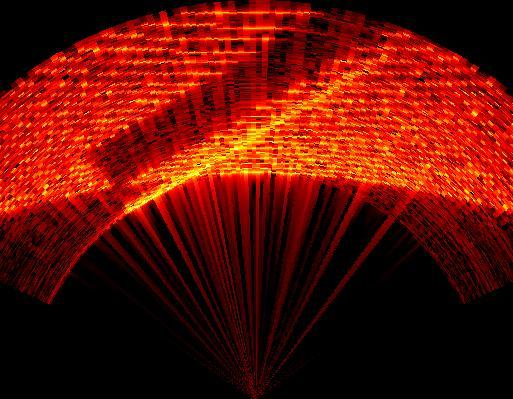pipe: (85, 10, 414, 214)
